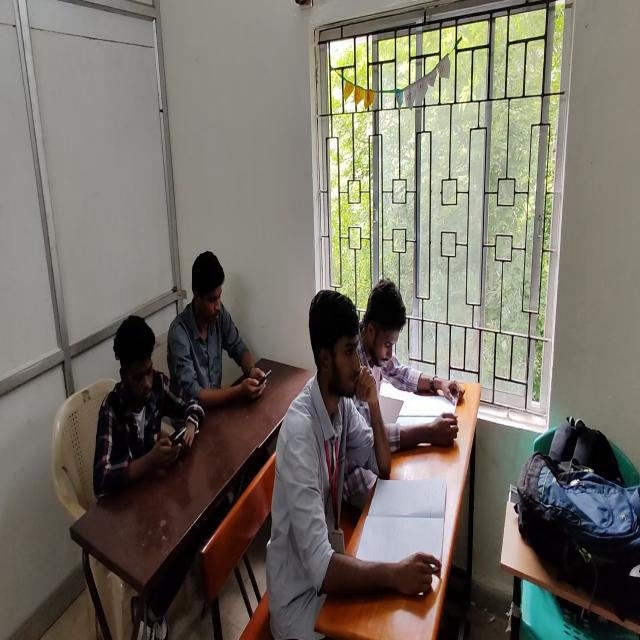reading: (266, 284, 410, 633), (361, 277, 461, 408)
using_mobile: (93, 311, 205, 498), (165, 251, 263, 425)
